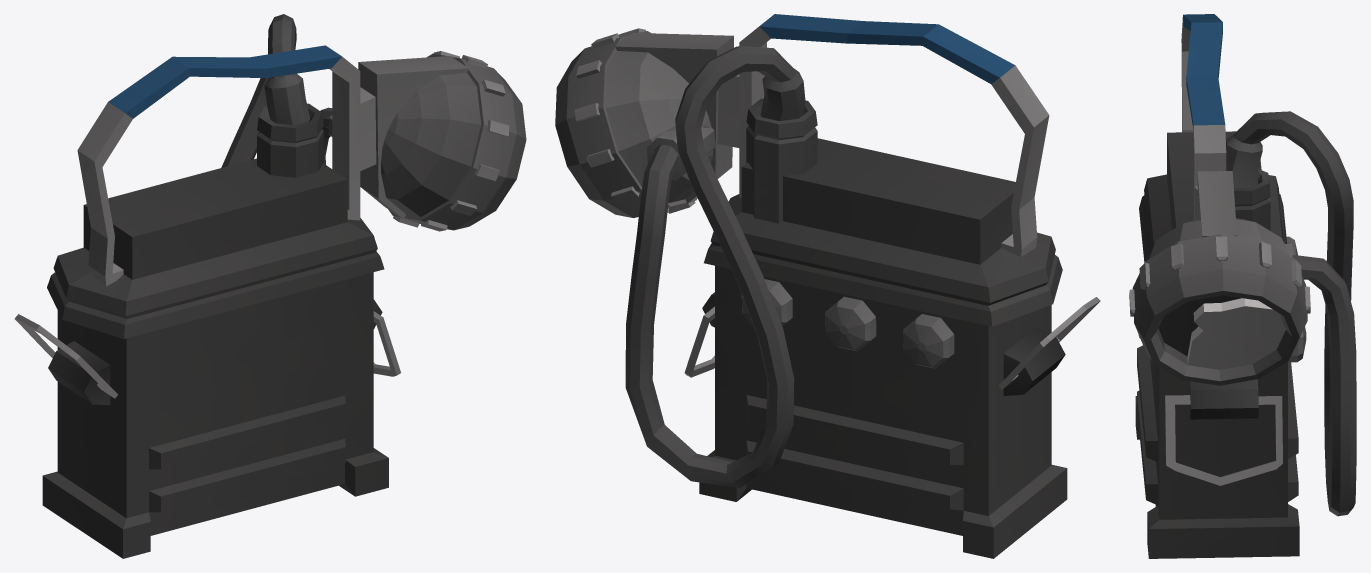
The model's file is Konogonka.fbx.
3 views of the same model, side by side, from view 1: azimuth 30°, elevation 25°; view 2: azimuth 150°, elevation 25°; view 3: azimuth 270°, elevation 25° (orthographic). The views are drawn at different scales.
Parts seen in each view (by area): view 1: Battarey, Lamp; view 2: Battarey, Lamp; view 3: Battarey, Lamp.
Boxes of the visible parts, x1,y1,x2,y2 form: Battarey: [14, 45, 400, 558]; Lamp: [221, 14, 526, 231]; Battarey: [684, 14, 1100, 558]; Lamp: [555, 28, 805, 487]; Battarey: [1135, 14, 1306, 558]; Lamp: [1129, 111, 1356, 516].
Bounding box in the file's own units: 0.5647 × 0.5043 × 0.2314.
Materials: 1 (1 with a texture image).
